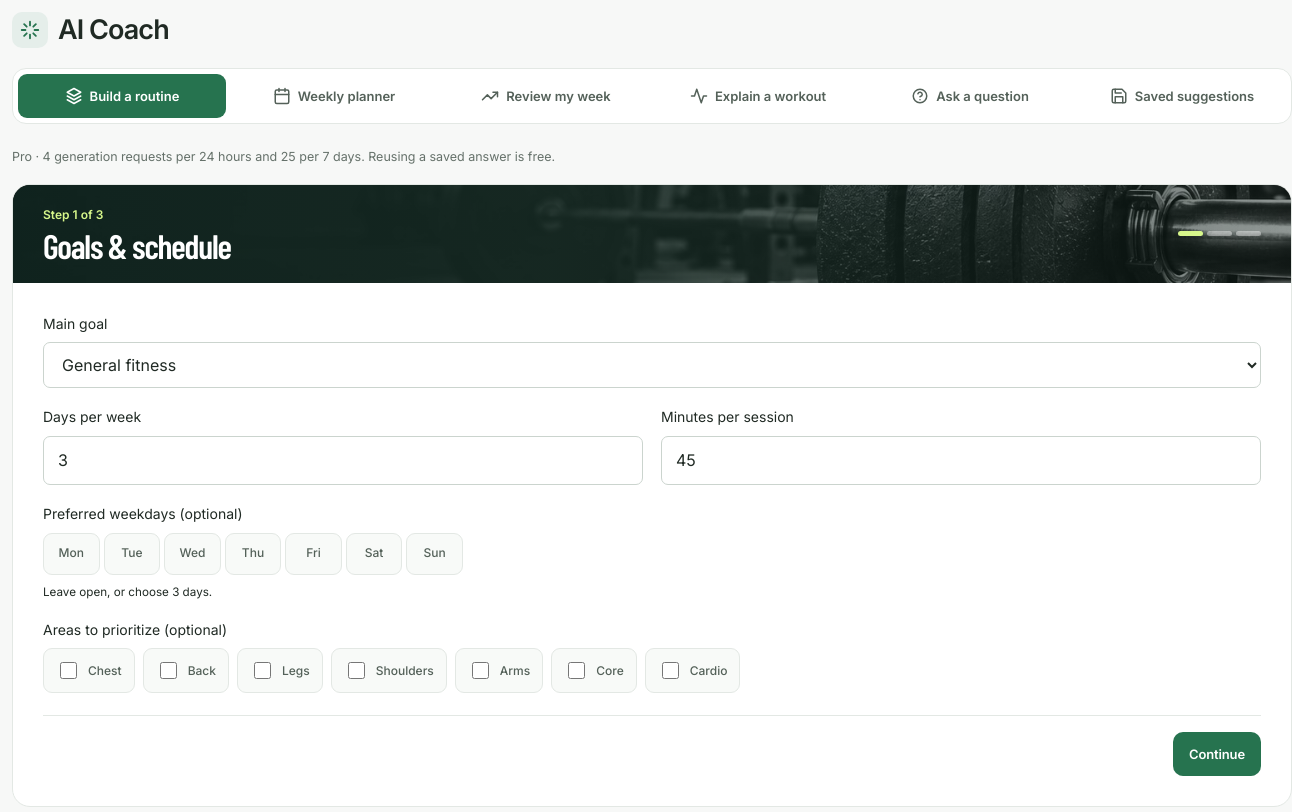
Test: keeps generation errors visible and allows retry without saving records
Expected: the heading "Goals & schedule" is shown, [43,227,231,265]
What coordinates should you click on to do the following:
click the button "Review my week"
I would click on:
 (546, 96)
Its box is [442,74,650,118].
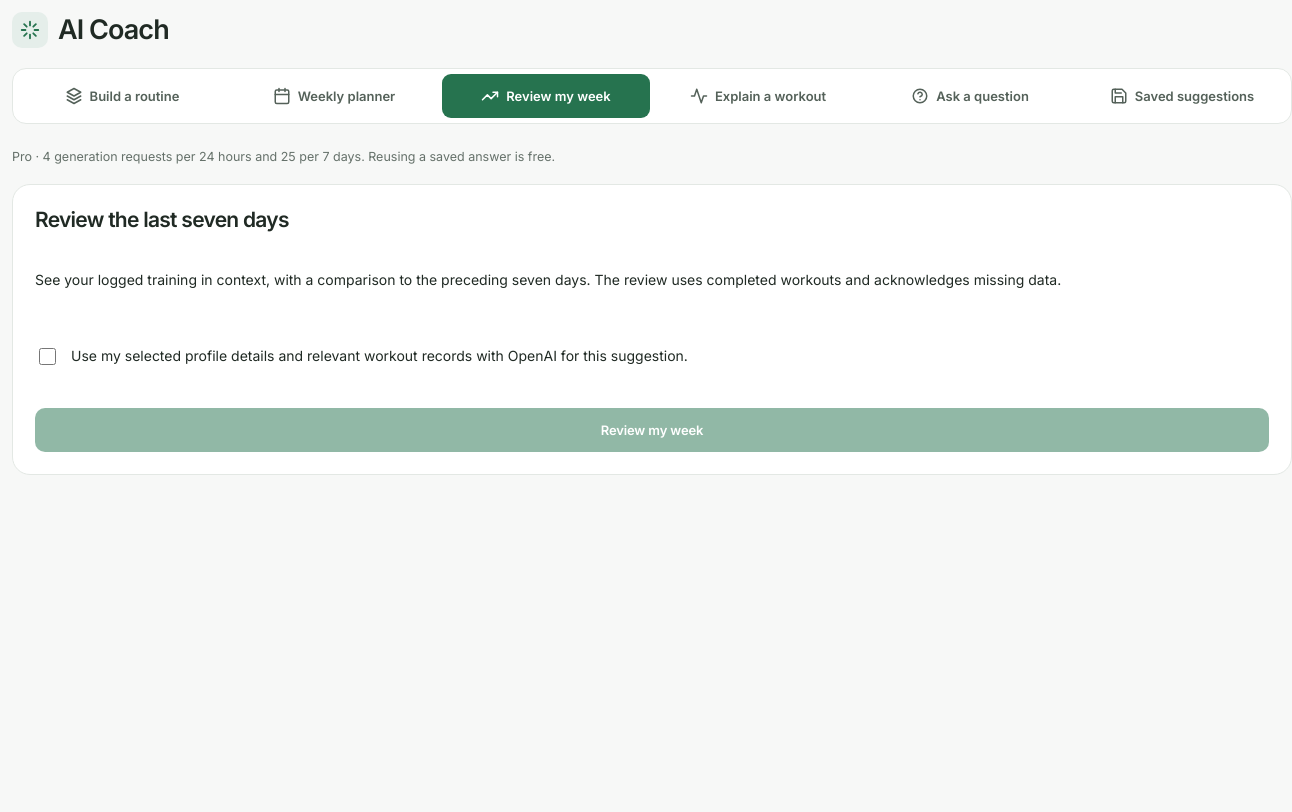
What coordinates should you click on to do the following:
click the checkbox labelled "Use my selected profile"
I would click on:
 (48, 356)
Its box is [39,348,56,365].
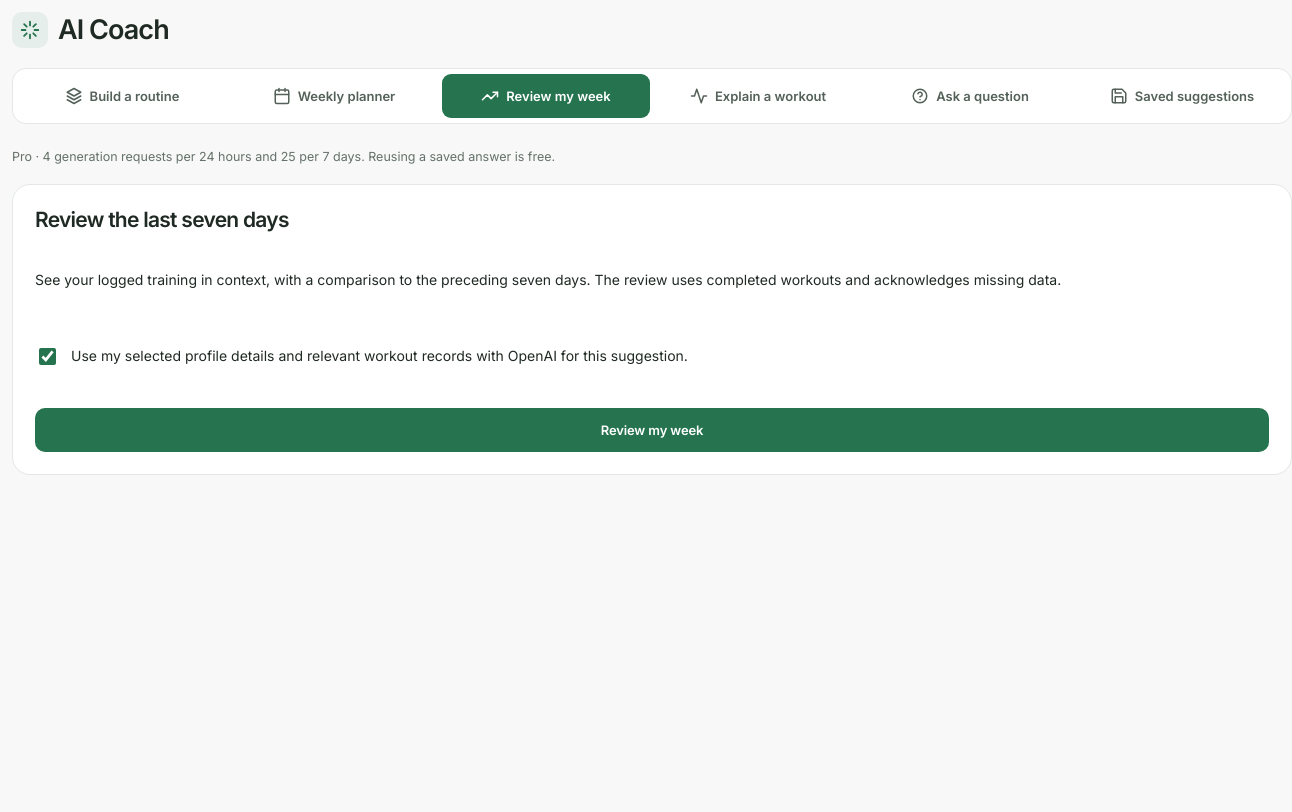
What coordinates should you click on to do the following:
click the button "Review my week" below "Review the last seven days"
I would click on:
 (652, 430)
Its box is [35,408,1269,452].
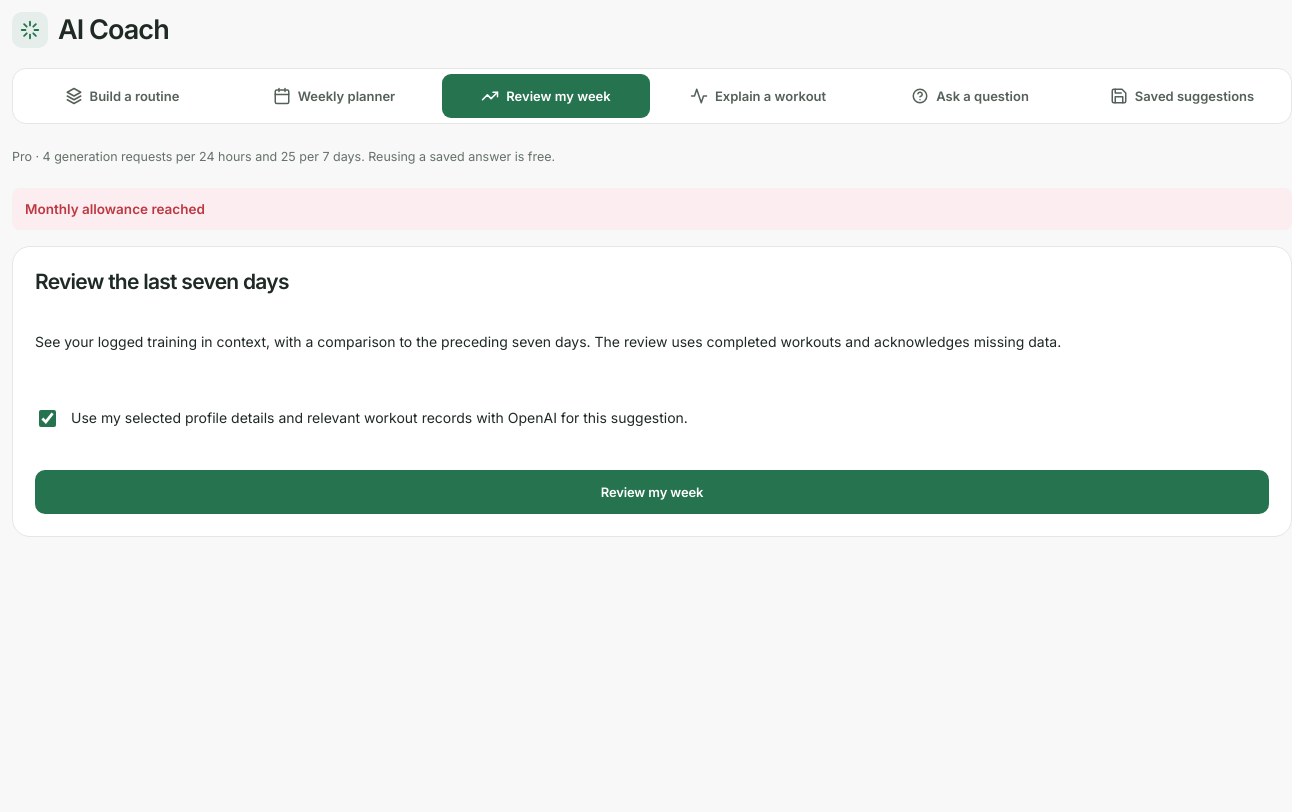
Expected: the text "Monthly allowance reached" is shown, [12,188,1291,230]
